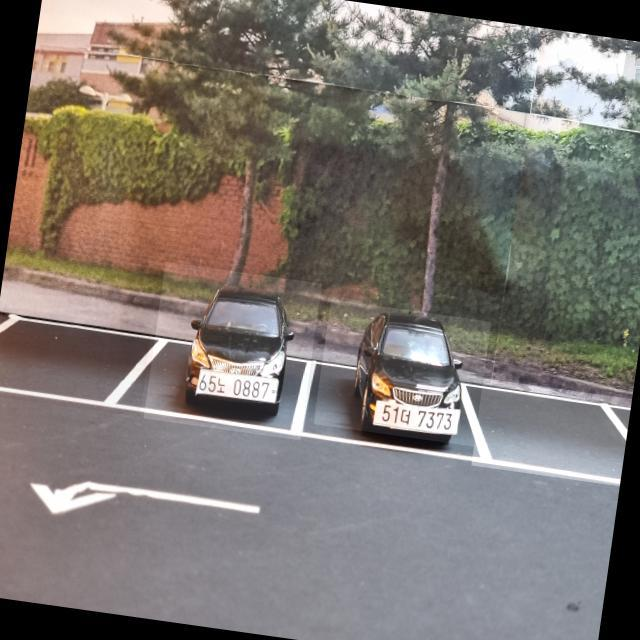empty: (471, 378, 632, 486), (0, 307, 152, 417)
occupied: (144, 262, 322, 440), (313, 299, 492, 447)
